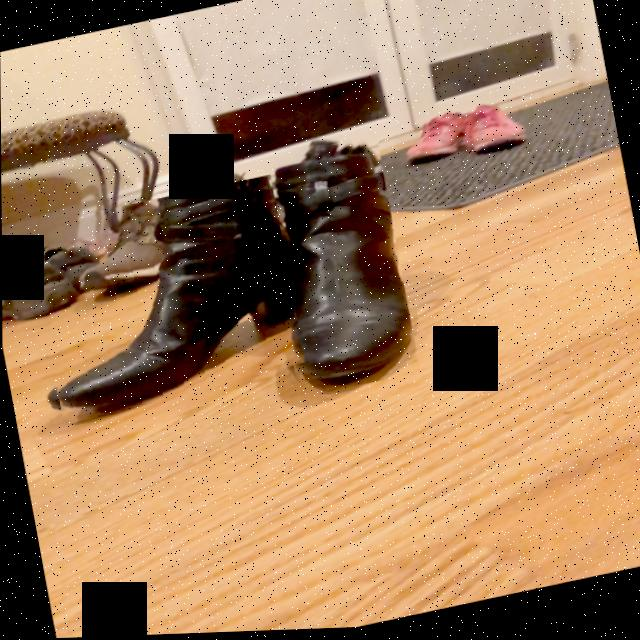shoe: (55, 182, 289, 416), (272, 147, 411, 393)
